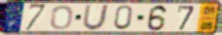0: (114, 4, 135, 31)
6: (147, 4, 170, 32)
7: (24, 3, 49, 32), (176, 5, 196, 31)
O: (49, 4, 75, 31)
U: (81, 4, 111, 31)
